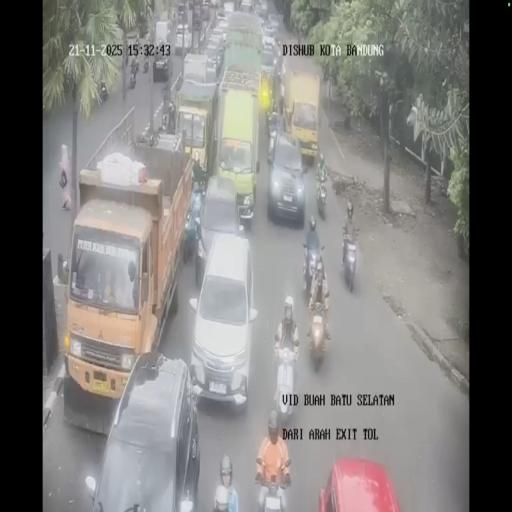3: (62, 137, 192, 420), (174, 62, 218, 178), (222, 8, 264, 93), (192, 1, 202, 28)
car: (194, 174, 244, 280), (266, 129, 306, 225), (203, 37, 225, 80), (154, 19, 170, 57), (174, 23, 191, 55), (152, 52, 170, 82), (261, 31, 276, 58), (254, 0, 268, 20), (267, 13, 281, 32), (216, 4, 228, 24), (200, 1, 210, 20), (240, 0, 252, 13), (178, 1, 185, 20), (210, 0, 218, 9)
truck: (270, 343, 298, 422), (255, 460, 289, 510), (302, 238, 324, 299), (307, 308, 328, 370), (340, 227, 358, 292), (316, 174, 328, 219), (162, 85, 174, 123), (136, 126, 156, 146), (97, 80, 109, 104), (128, 67, 137, 89), (134, 34, 140, 60), (143, 52, 149, 73), (123, 49, 129, 68)
